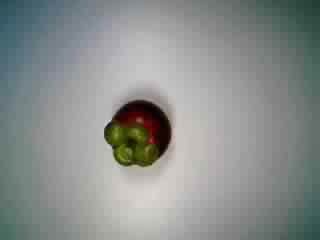mangosteen: (94, 96, 175, 171)
